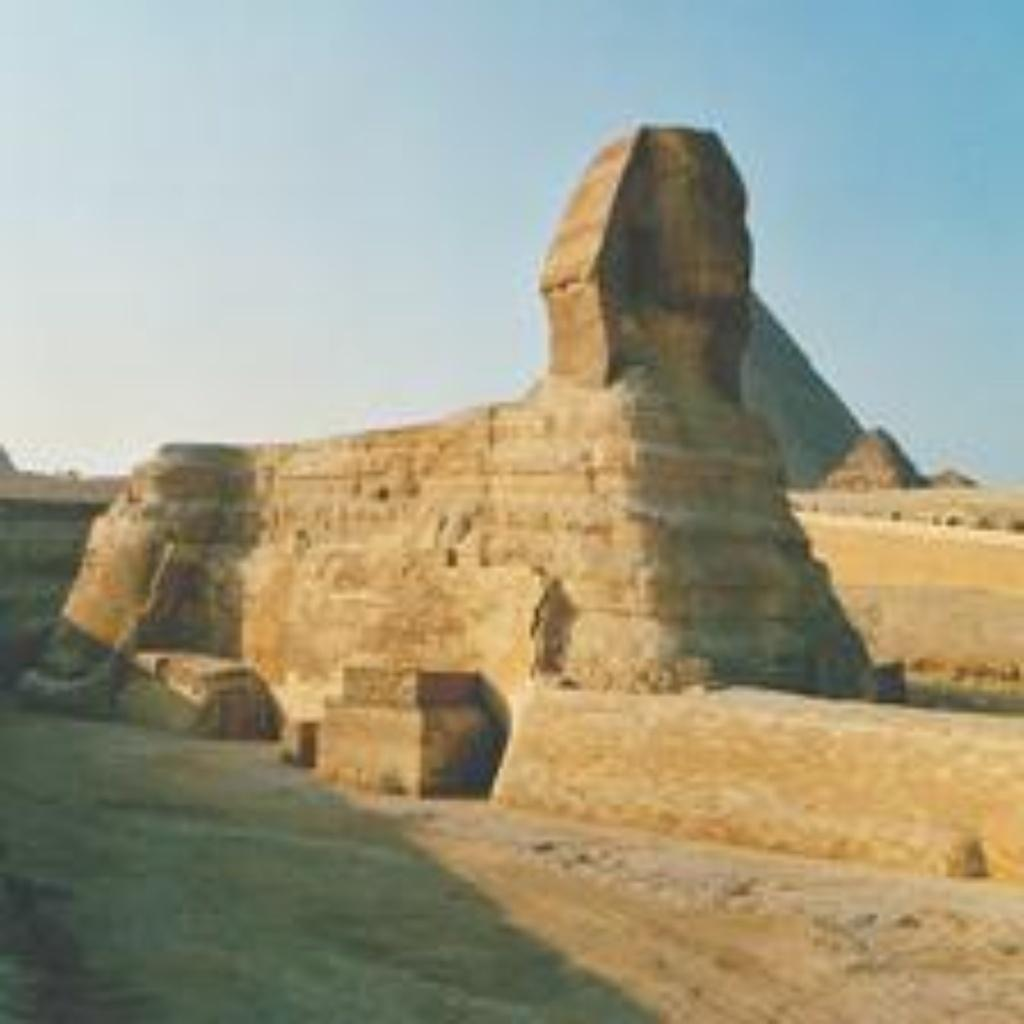Sphinx: (9, 114, 905, 782)
